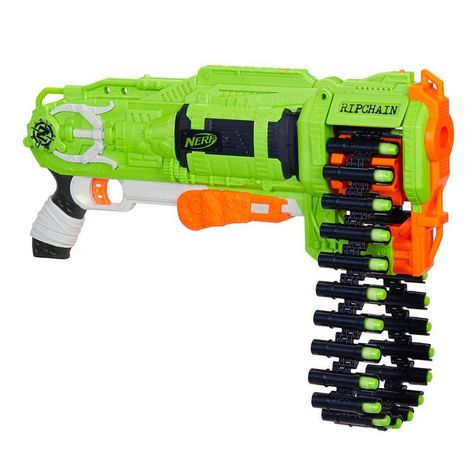Arma Falsa: (28, 60, 472, 437)
